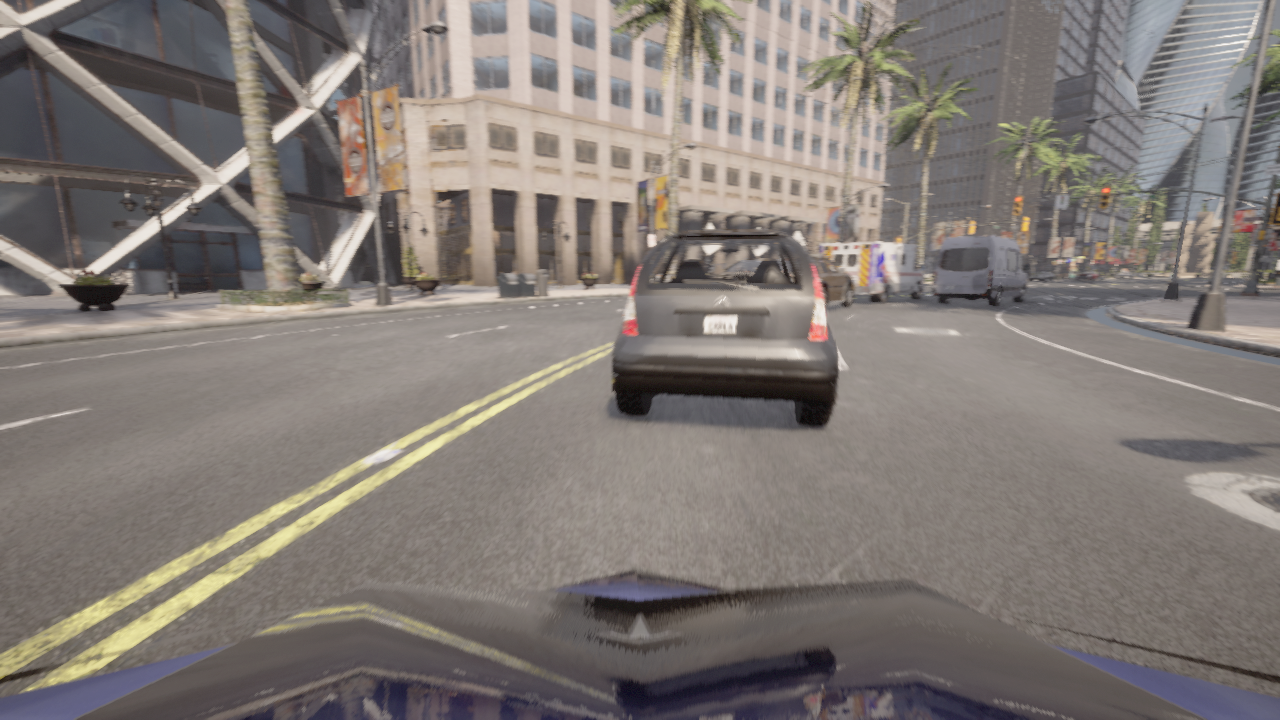cyclist: (0, 569, 1279, 719), (611, 229, 837, 425), (932, 236, 1029, 305), (820, 241, 925, 302), (809, 253, 855, 307), (1028, 271, 1053, 282), (1074, 271, 1096, 280), (1116, 272, 1131, 279), (1097, 273, 1104, 280), (819, 278, 820, 281)
